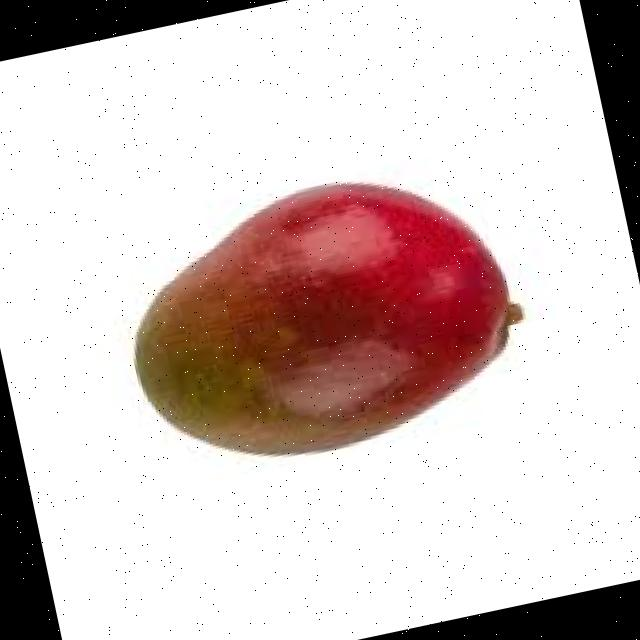mango: (129, 181, 519, 459)
